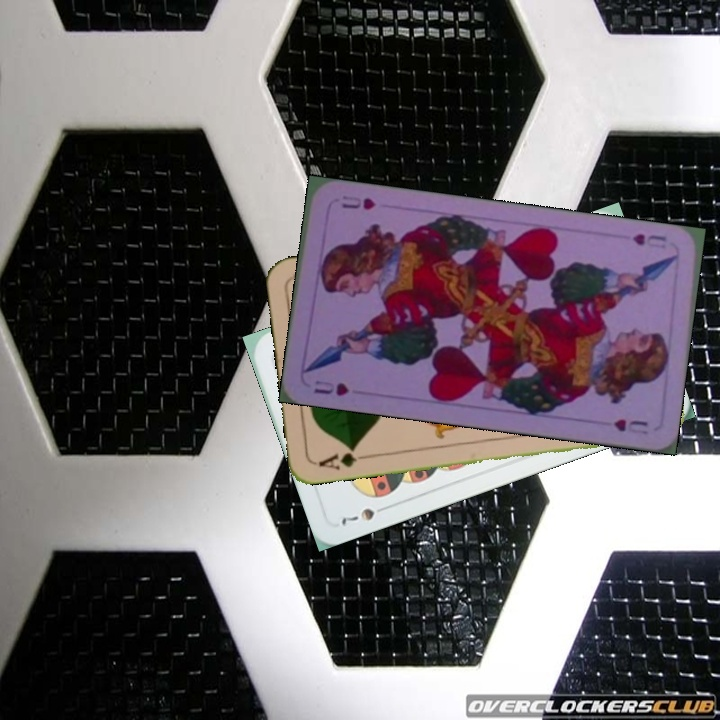GA: (315, 443, 372, 473)
HU: (310, 376, 352, 398), (628, 229, 669, 251)
S7: (337, 501, 392, 528)
